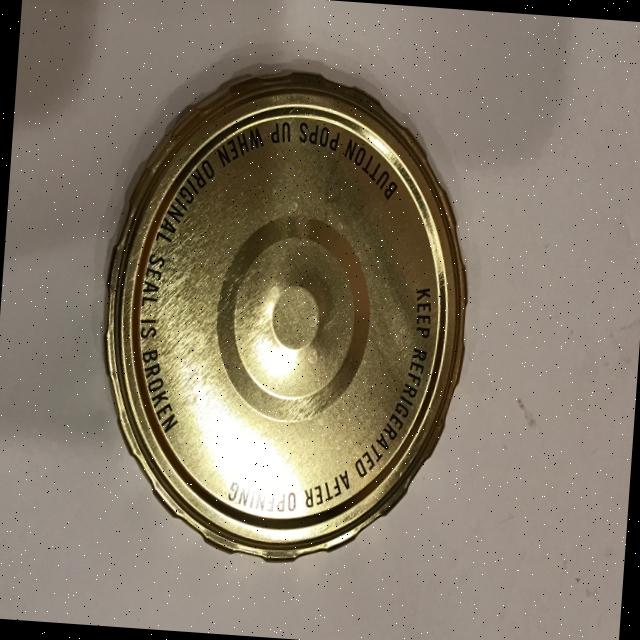metal: (86, 57, 484, 574)
